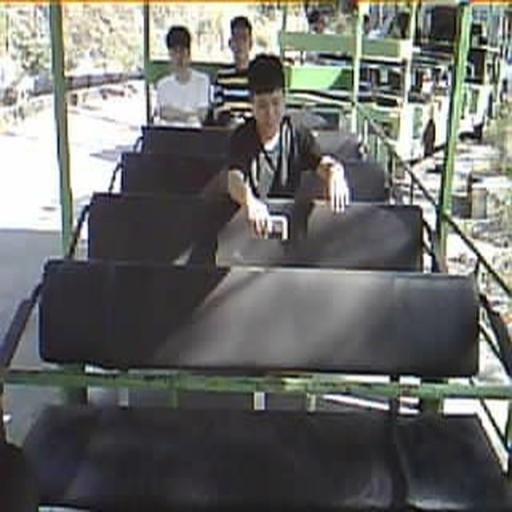persona: (224, 53, 350, 241), (152, 24, 212, 126), (215, 15, 257, 88)
